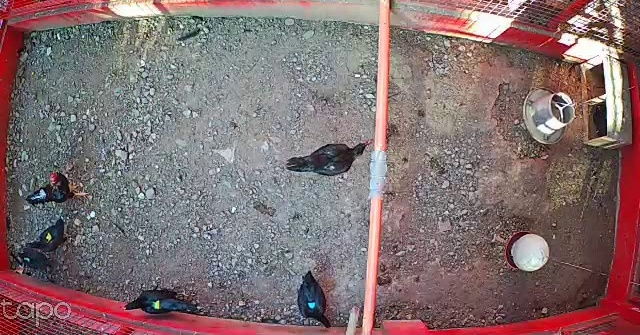Chicken: (282, 133, 375, 179), (118, 286, 199, 319), (293, 268, 335, 327), (28, 220, 72, 252)
Rooster: (22, 173, 93, 205)
Saddle_Color_Blue: (308, 302, 316, 309)
Saddle_Color_Yellow: (46, 231, 53, 241)
Saddle_Color_YellowGreen: (151, 299, 160, 311)
